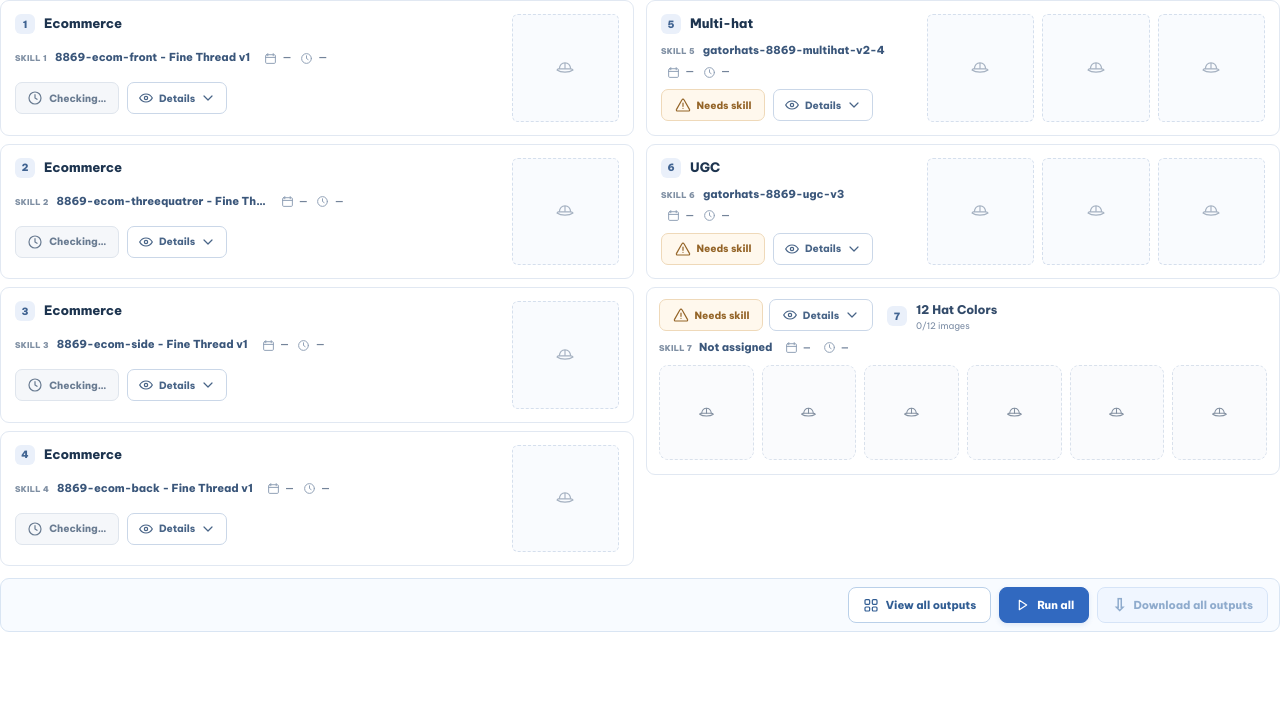
Test: Ecommerce Run unlock after Fine Thread upgrade › displays the actual three-quarter stock as Skill 2 edit target, not synthetic front/side
Click the button with class "rrugc-products-photo-detail-toggle" below "8869-ecom-threequatrer - Fine Thread v1" at (177, 242), box 127,226 -> 227,258
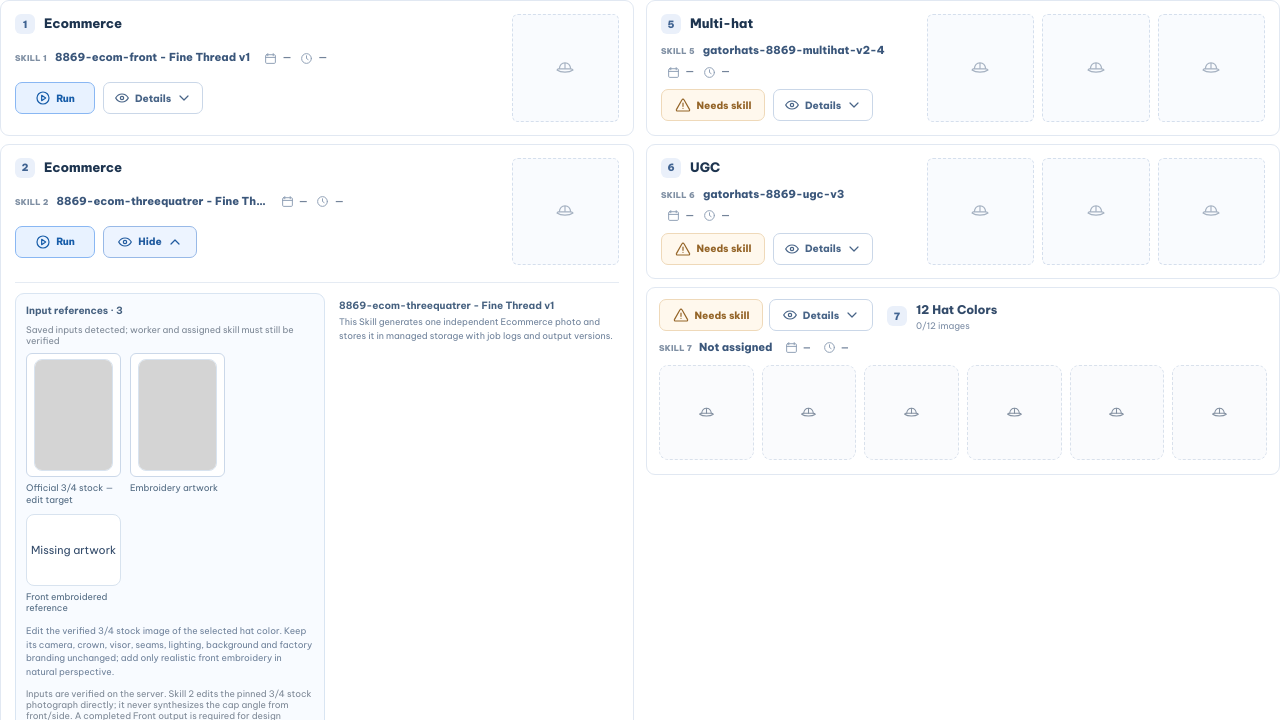
Expected: the element with class "rrugc-products-photo-inputs" shows "Official 3/4 stock", 26,482 -> 113,505
Expected: the element with class "rrugc-products-photo-inputs" shows "edit target", 26,482 -> 113,505
